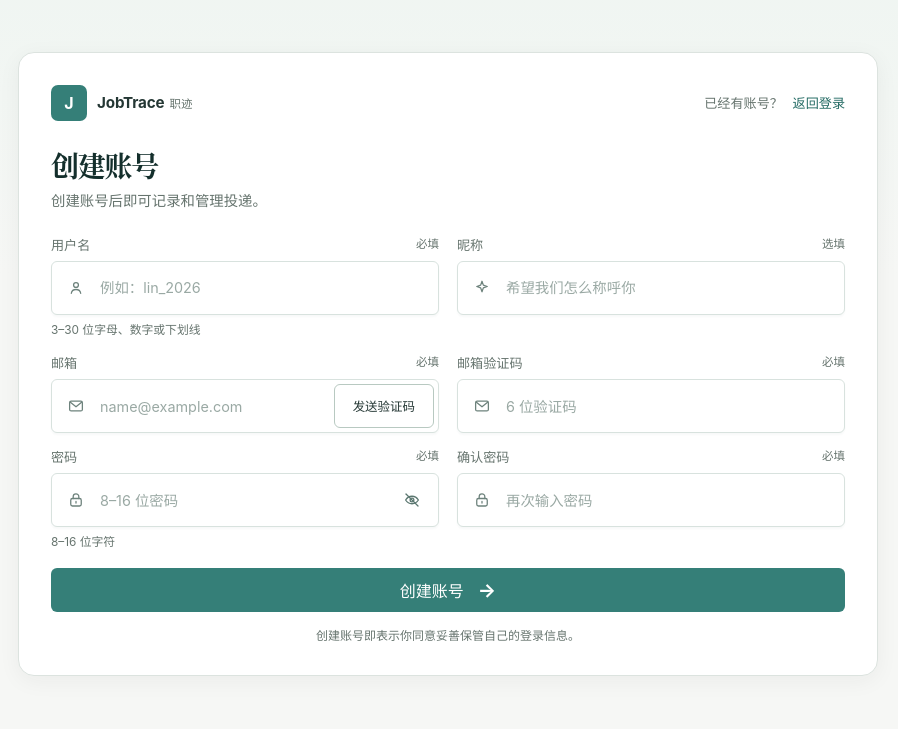
Scenario: auth forms › requires an email before requesting a code and preserves an error
Click the button "发送验证码". click: click(384, 406)
box: [334,384,434,428]
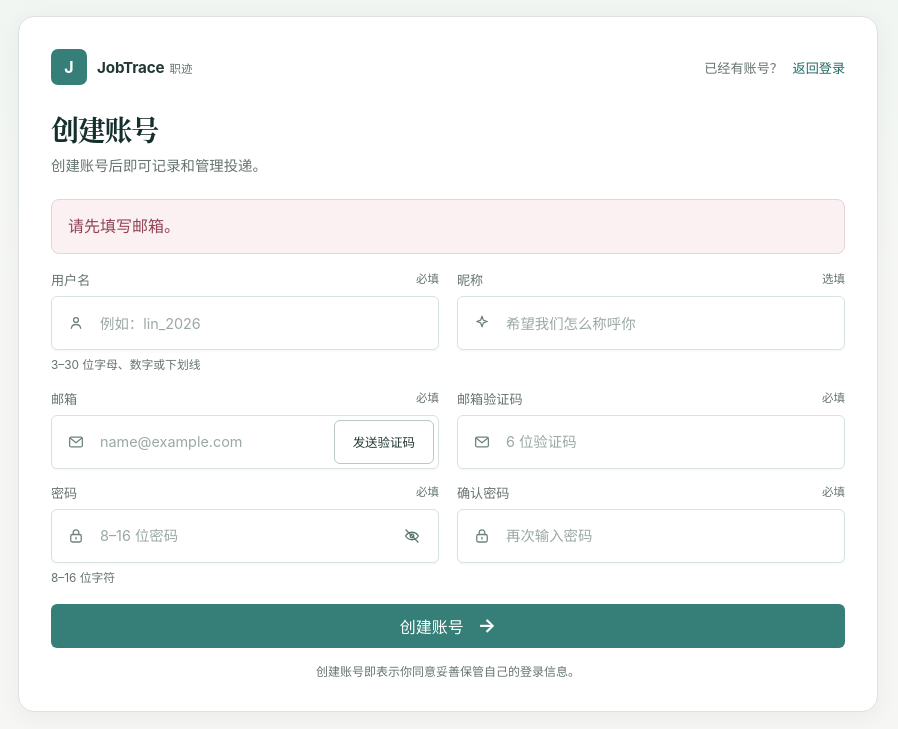
Result: the message shows "请先填写邮箱" at [68,216,180,236]
Type "user@example.com" into the field labelled "邮箱". click: (245, 442)
box: [51,415,439,469]
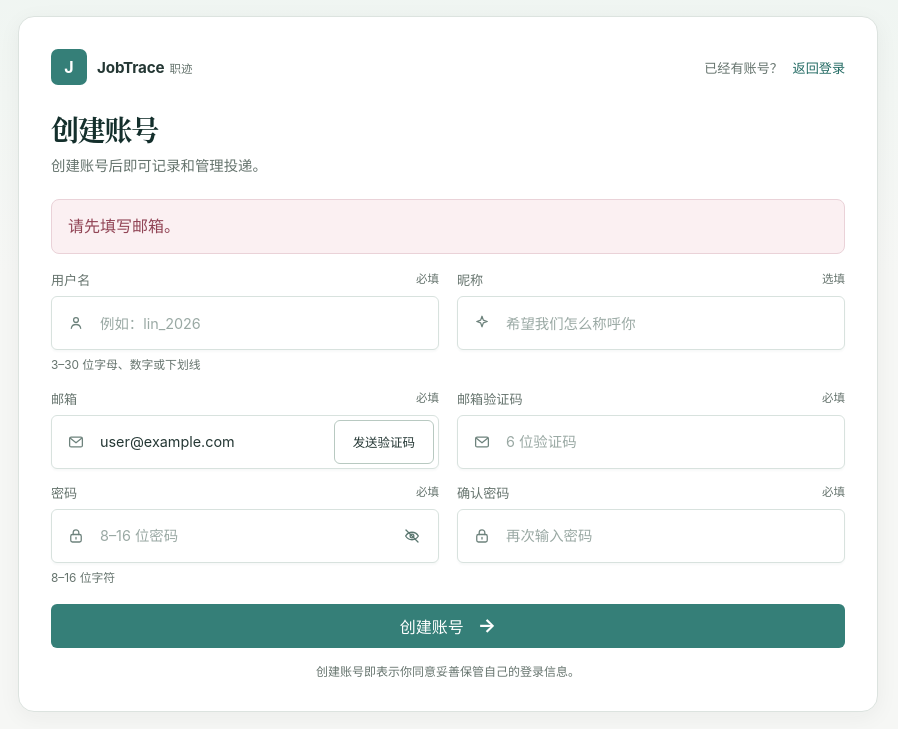
Click the button "发送验证码". click: click(384, 442)
box: [334,420,434,464]
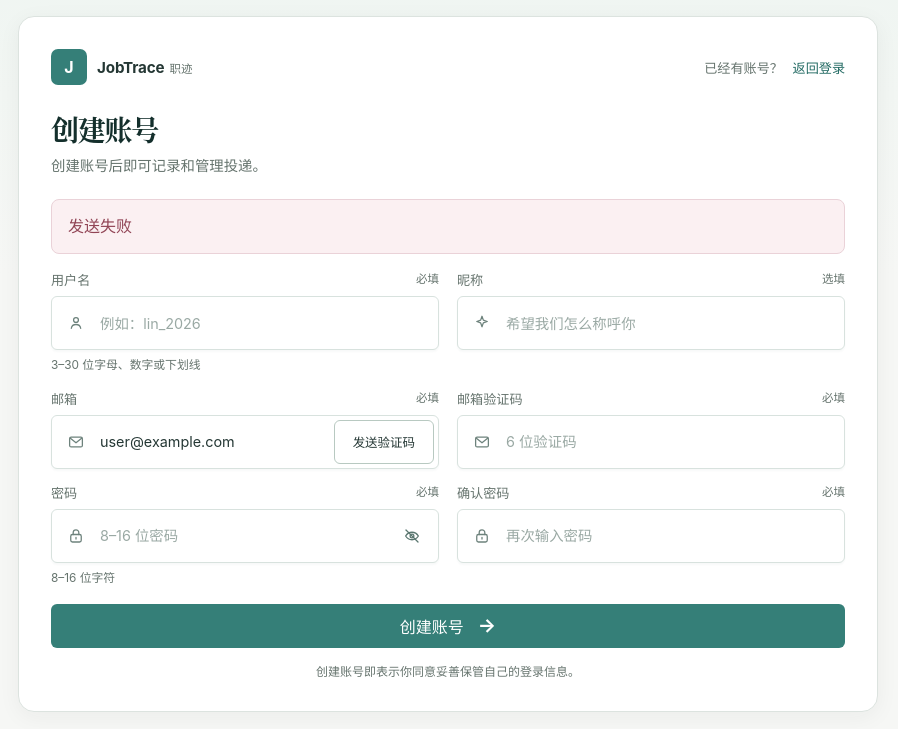
Result: the message reads "发送失败" at [68,216,132,236]
